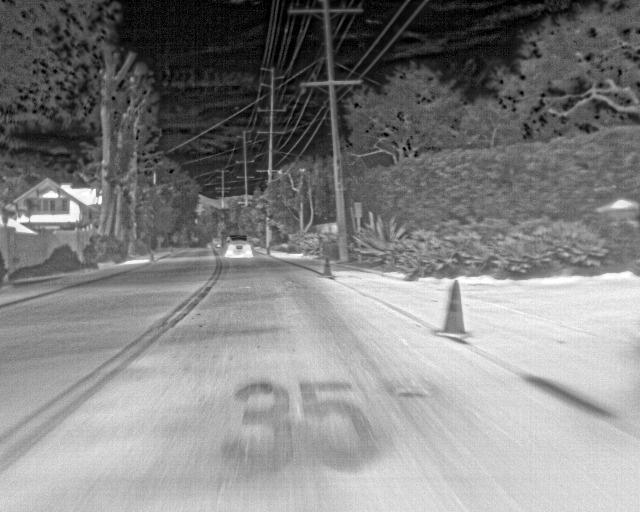car: (224, 235, 253, 259)
